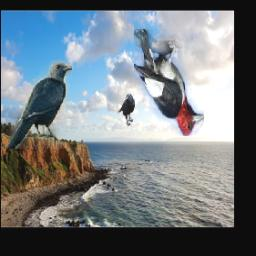Crow: (6, 60, 73, 149), (117, 92, 136, 126)
Woodpecker: (135, 30, 205, 137)
